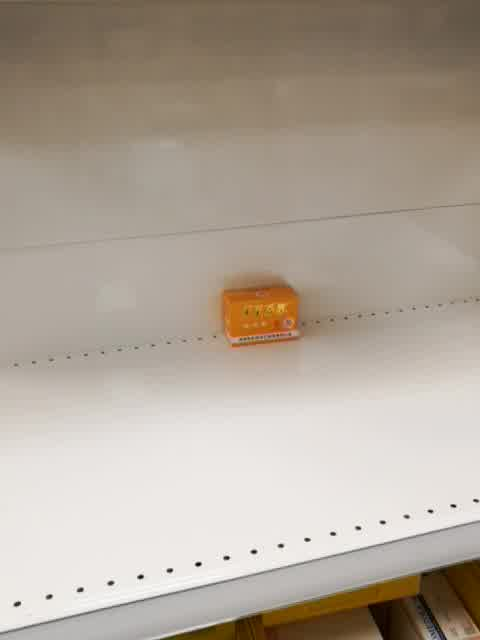jasminetea: (219, 283, 303, 347)
